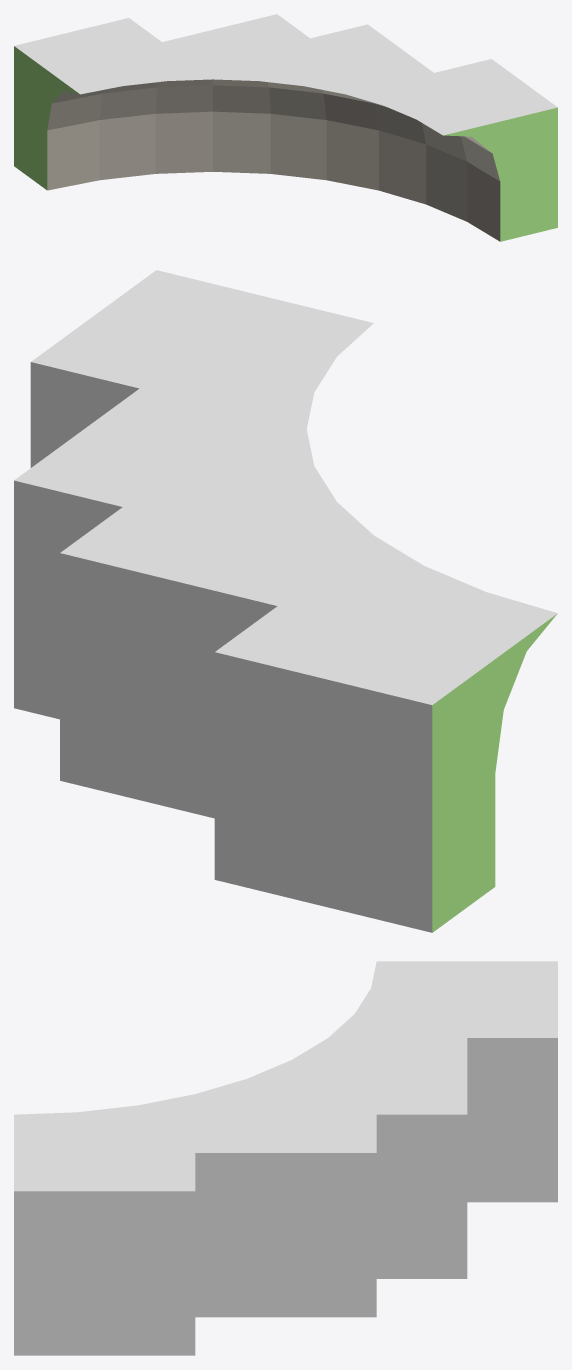
The model's file is Wall_Curve_Inner_6x6_Top.glb.
3 views of the same model, one above another, from view 1: azimuth 30°, elevation 25°; view 2: azimuth 150°, elevation 25°; view 3: azimuth 270°, elevation 25° (orthographic). The views are drawn at different scales.
Parts seen in each view (by area): view 1: Wall_Curve_Inner_6x6_Top; view 2: Wall_Curve_Inner_6x6_Top; view 3: Wall_Curve_Inner_6x6_Top.
Boxes of the visible parts, box(x1,y1,x2,y2) form: Wall_Curve_Inner_6x6_Top: box(14, 14, 557, 241); Wall_Curve_Inner_6x6_Top: box(14, 270, 557, 932); Wall_Curve_Inner_6x6_Top: box(14, 961, 557, 1355).
Bounding box in the file's own units: 600 × 200 × 600.
